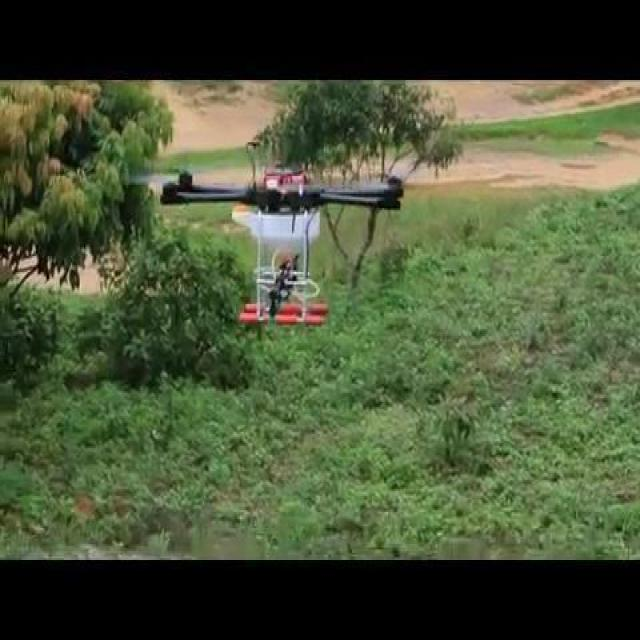drone: (132, 138, 406, 332)
